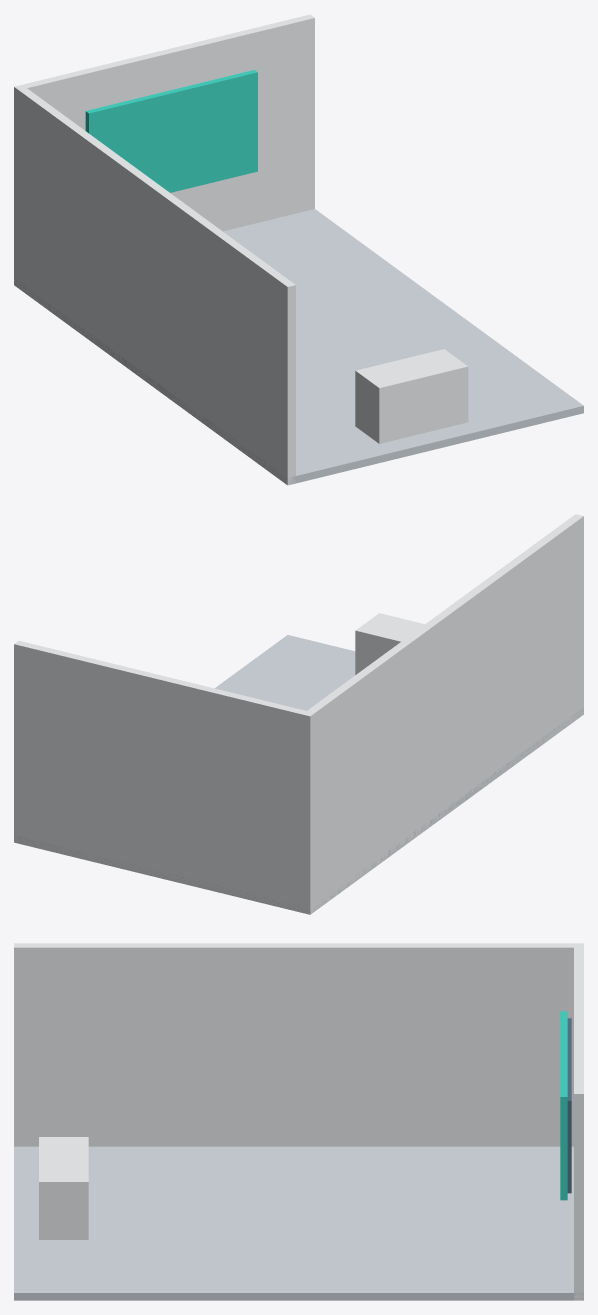
3 renders of one model, top to bottom at view 1: azimuth 30°, elevation 25°; view 2: azimuth 150°, elevation 25°; view 3: azimuth 270°, elevation 25°, orthographic. The views are drawn at different scales.
Visible parts, largest first — view 1: Exhibition Booth Concept; view 2: Exhibition Booth Concept; view 3: Exhibition Booth Concept.
Part boxes in pixels (box(x1,y1,x2,y2)): Exhibition Booth Concept: box(14, 14, 583, 485); Exhibition Booth Concept: box(14, 514, 583, 914); Exhibition Booth Concept: box(14, 943, 583, 1300).
Size of the model in its own units: 5 by 3.2 by 8.
